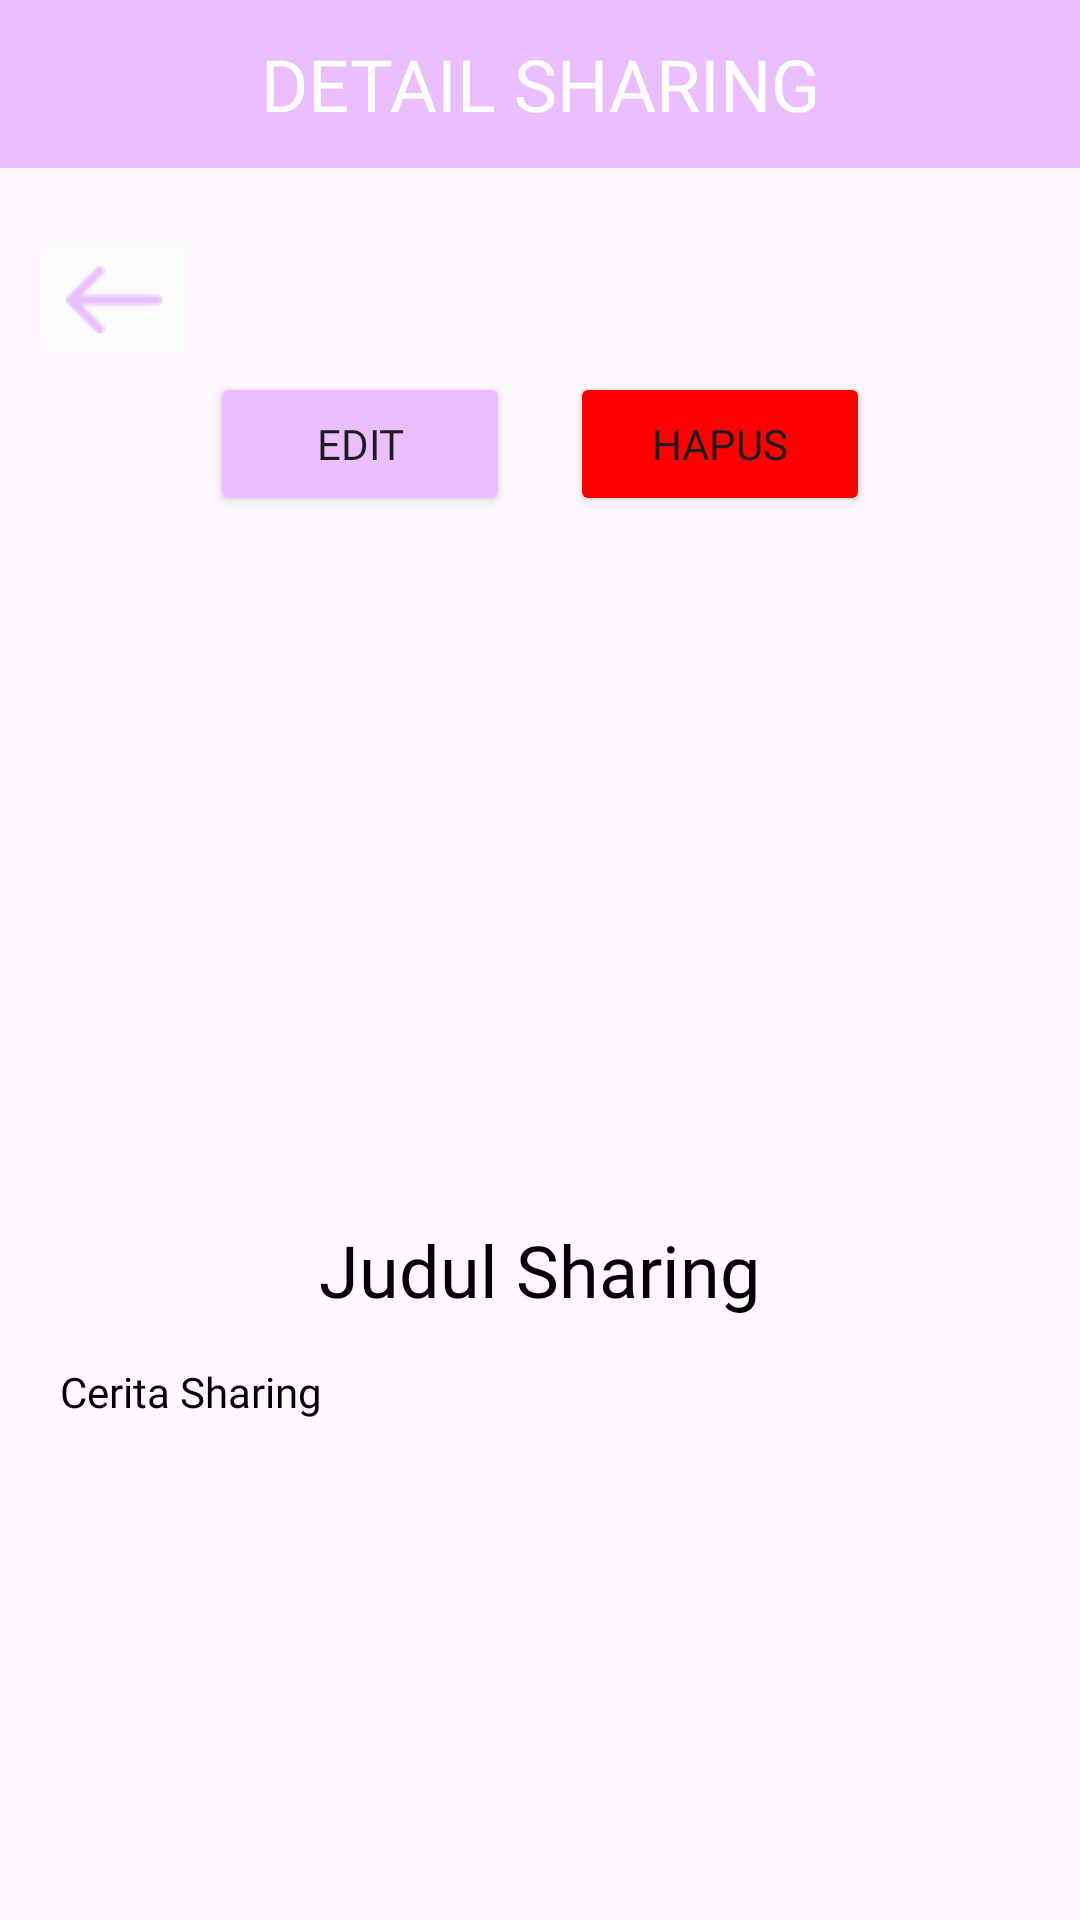

Icons on this 1080*1920 Android screen, each with its box as (x1, y1, x2, y2):
Back: (66, 267, 162, 333)
